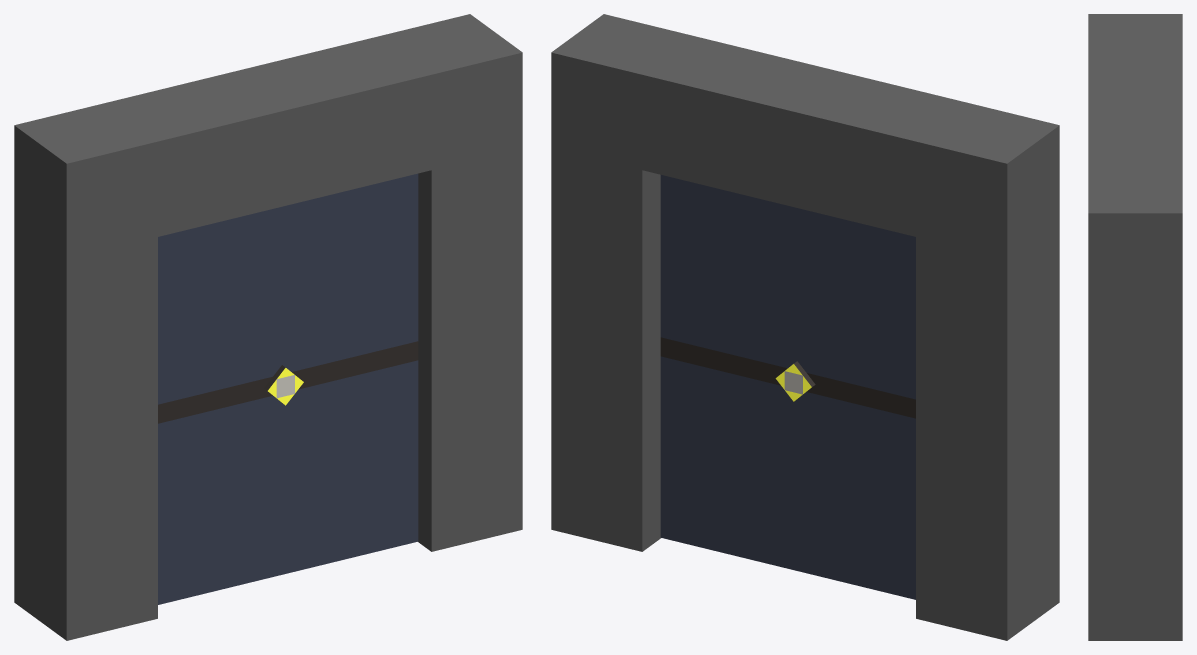
File: sq_lab_door.fbx
3 views of the same model, side by side, from view 1: azimuth 30°, elevation 25°; view 2: azimuth 150°, elevation 25°; view 3: azimuth 270°, elevation 25° (orthographic). The views are drawn at different scales.
Visible parts, largest first — view 1: Doorway, Door; view 2: Doorway, Door; view 3: Doorway.
Boxes of the visible parts, <box> form: Doorway: <box>14,14,522,640</box>; Door: <box>158,173,418,604</box>; Doorway: <box>551,14,1059,640</box>; Door: <box>660,175,915,599</box>; Doorway: <box>1088,14,1182,640</box>.
Size of the model in its own units: 500 by 500 by 100.
